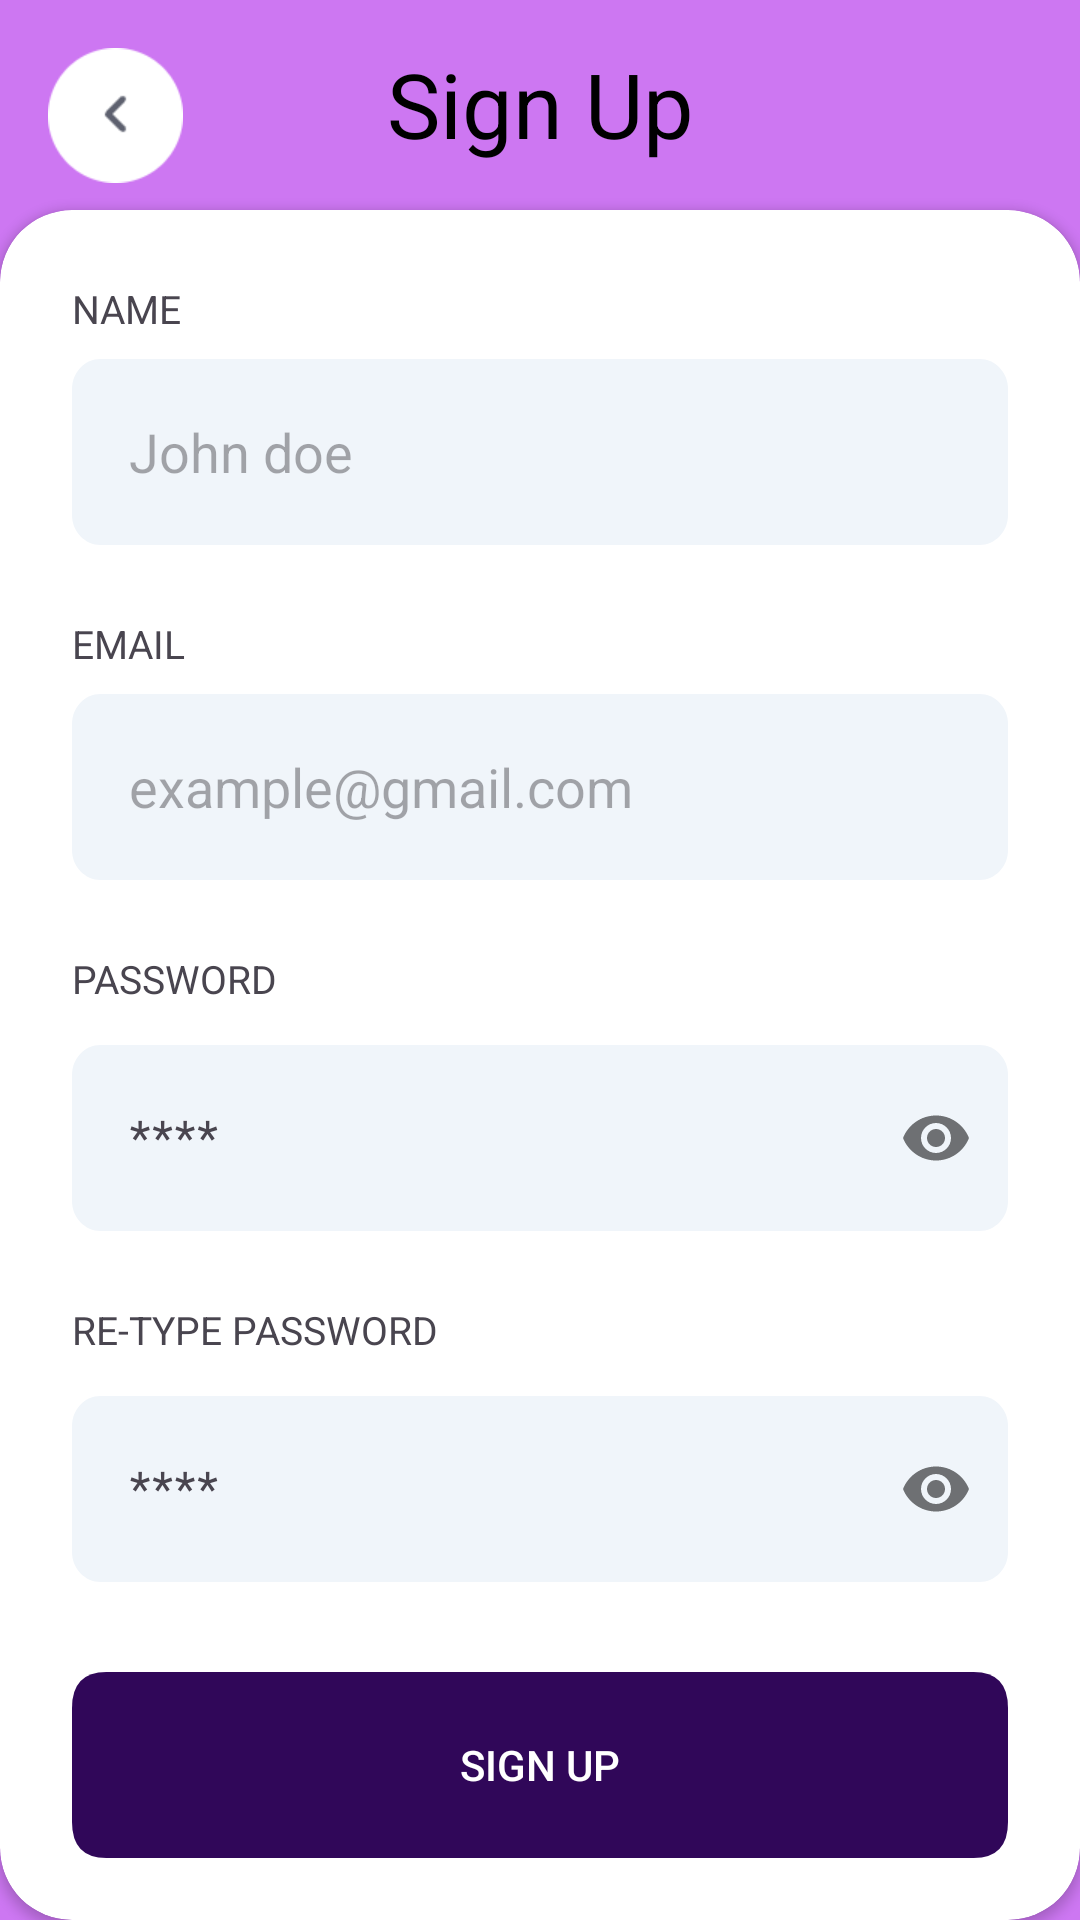

Named icons in this screenshot (1080px x 1920px) and their bounding boxes, (x1,y1,x2,y2):
back arrow: (48,48,183,183)
